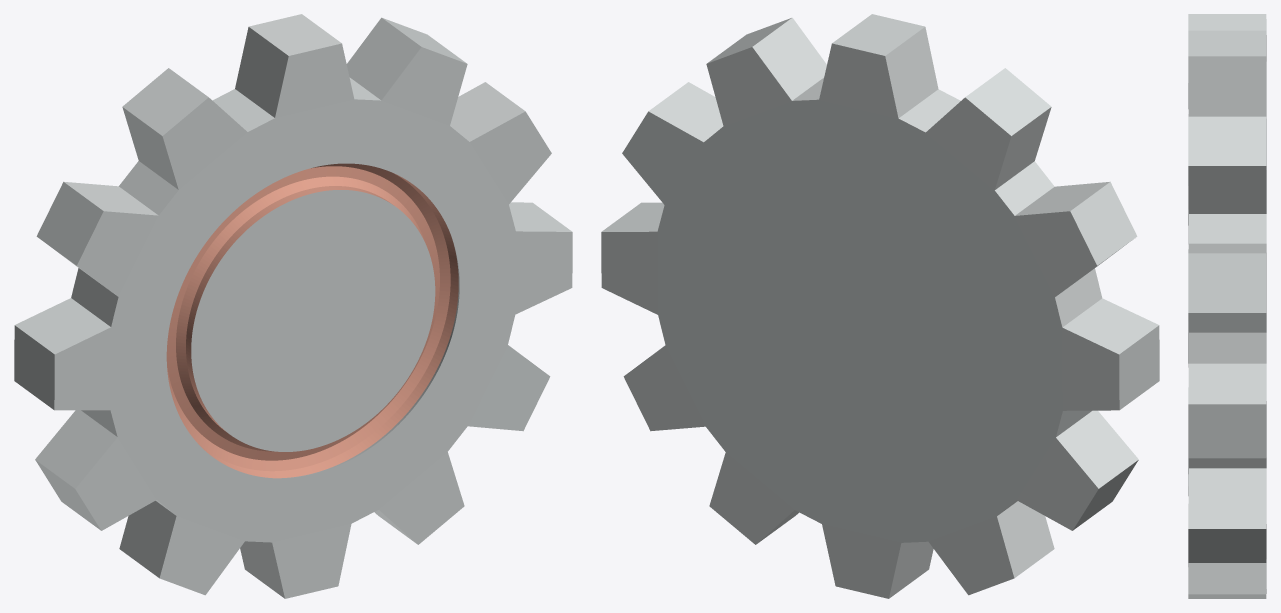
File: sandal-gear.gltf
3 views of the same model, side by side, from view 1: azimuth 30°, elevation 25°; view 2: azimuth 150°, elevation 25°; view 3: azimuth 270°, elevation 25° (orthographic). The views are drawn at different scales.
Visible parts, largest first — view 1: Cylinder.001; view 2: Cylinder.001; view 3: Cylinder.001.
Part boxes in pixels (left/top/right/bottom): Cylinder.001: left=14, top=14, right=572, bottom=598; Cylinder.001: left=601, top=14, right=1159, bottom=598; Cylinder.001: left=1188, top=14, right=1266, bottom=598.
Bounding box in the file's own units: 1.95 × 1.95 × 0.2627.
